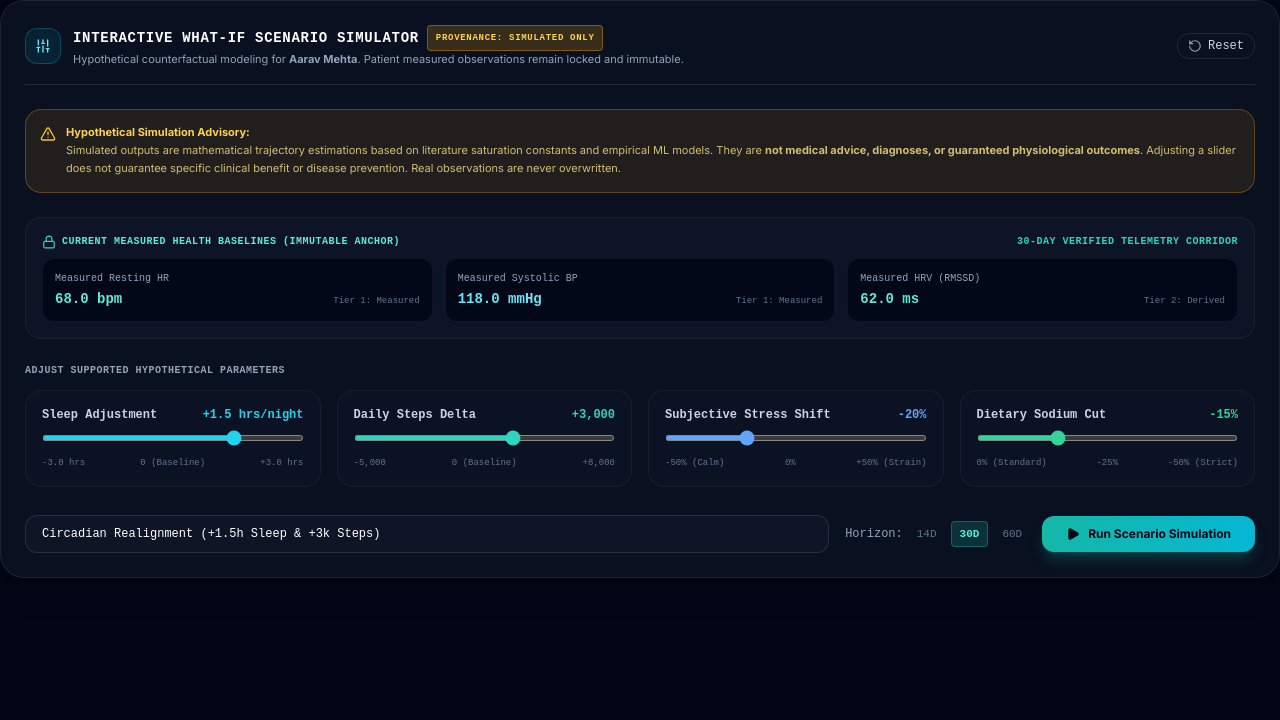
it: Interactive What-If Simulator Workspace (Step 8) › detects contradictory inputs and blocks simulation with a clear warning
// Set sleep slider to -2.5 hrs
Step 1. Set the slider named "Hypothetical sleep duration adjustment in hours per night" to "-2.5" → coordinates (70, 438), box top-left (42, 435), bottom-right (304, 441)
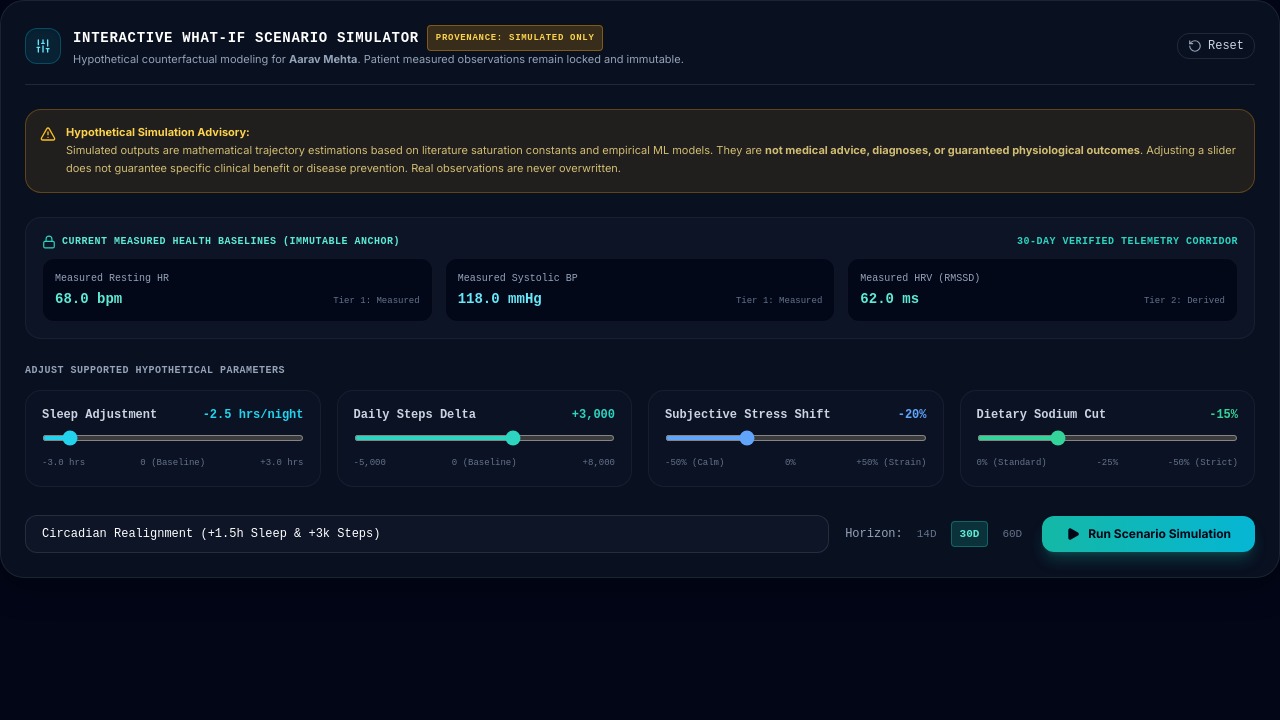
// Set steps slider to +7,000 steps (contradictory)
Step 2. Set the slider named "Hypothetical daily step count adjustment" to "7000" → coordinates (588, 438), box top-left (354, 435), bottom-right (615, 441)
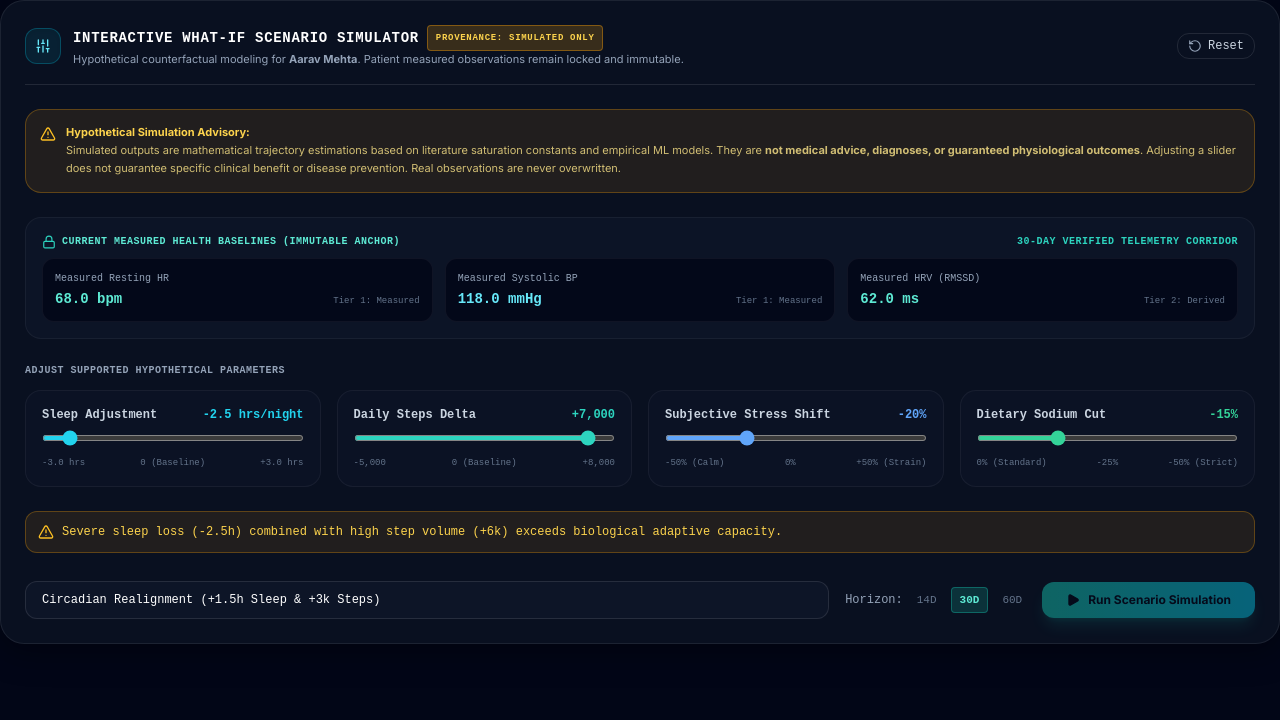
Check: the text "Severe sleep loss (-2.5h) combined with high step volume" is shown, box top-left (62, 525), bottom-right (782, 539)
Check: the button "Run Scenario Simulation" is disabled, box top-left (1042, 582), bottom-right (1255, 618)
